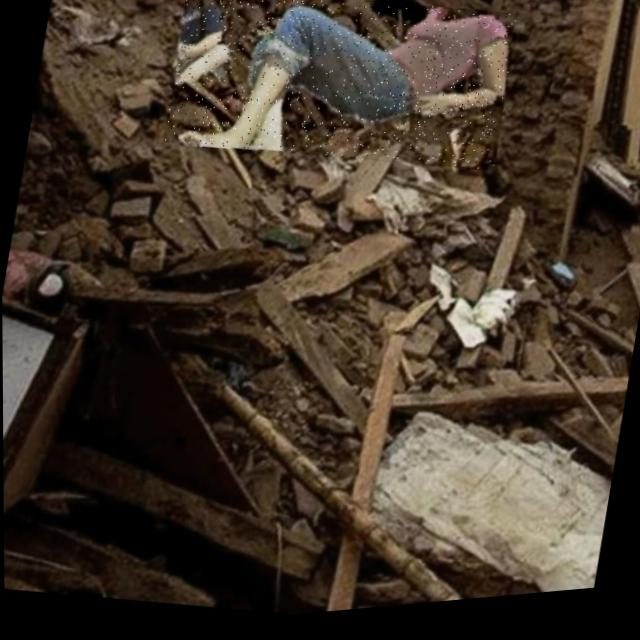Person in Rubble: (161, 0, 519, 203)
